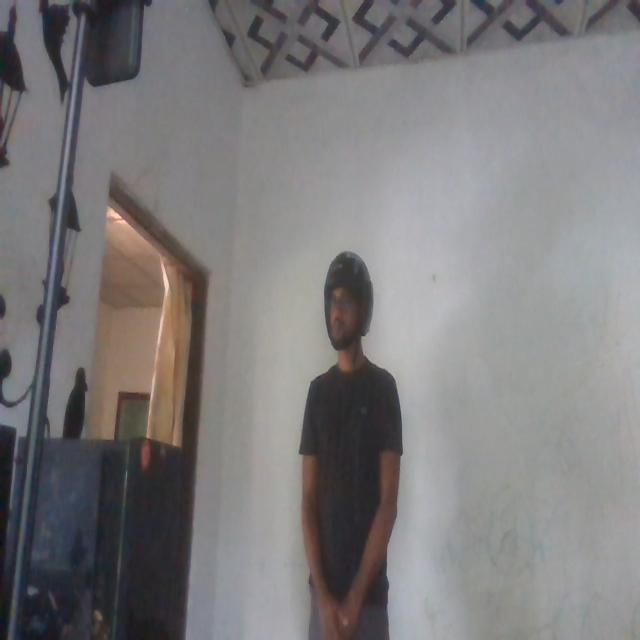Helmet_Wearer: (313, 246, 385, 384)
Person: (297, 242, 423, 640)
